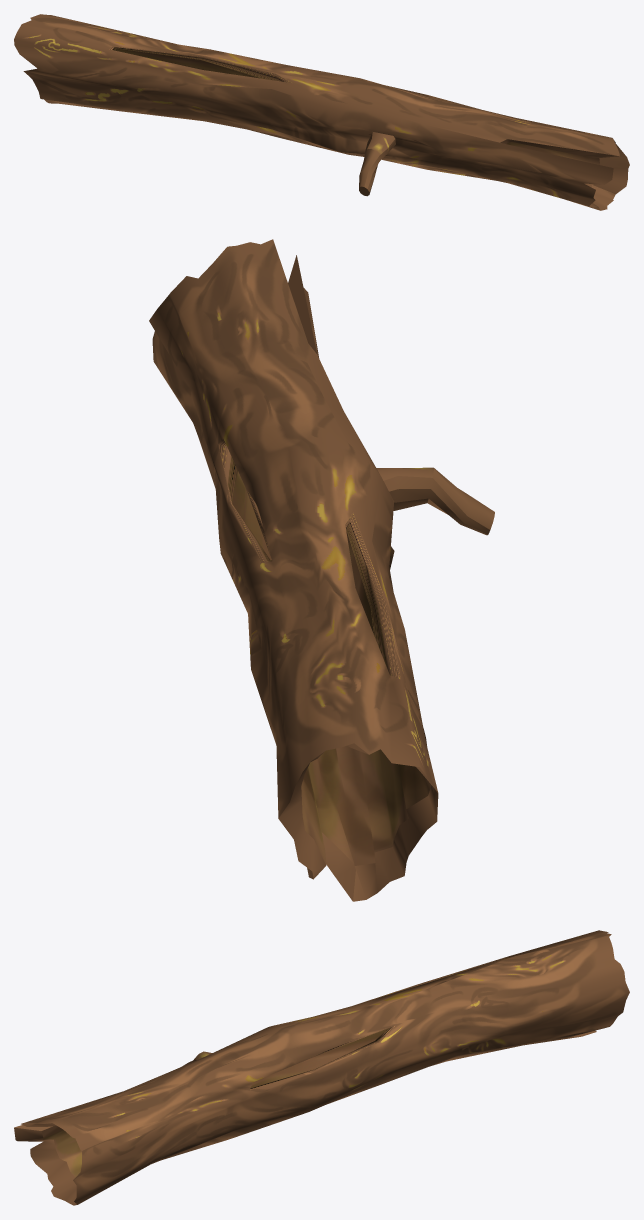
Rendered from TRONCO_2.fbx.
The picture shows the model from 3 angles, top to bottom: view 1: azimuth 30°, elevation 25°; view 2: azimuth 150°, elevation 25°; view 3: azimuth 270°, elevation 25°; orthographic projection. The views are drawn at different scales.
Parts seen in each view (by area): view 1: tronco_2; view 2: tronco_2; view 3: tronco_2.
Boxes of the visible parts, x1,y1,x2,y2 form: tronco_2: [14, 14, 629, 210]; tronco_2: [149, 239, 494, 901]; tronco_2: [14, 930, 629, 1205].
Bounding box in the file's own units: 662 × 147 × 857.
